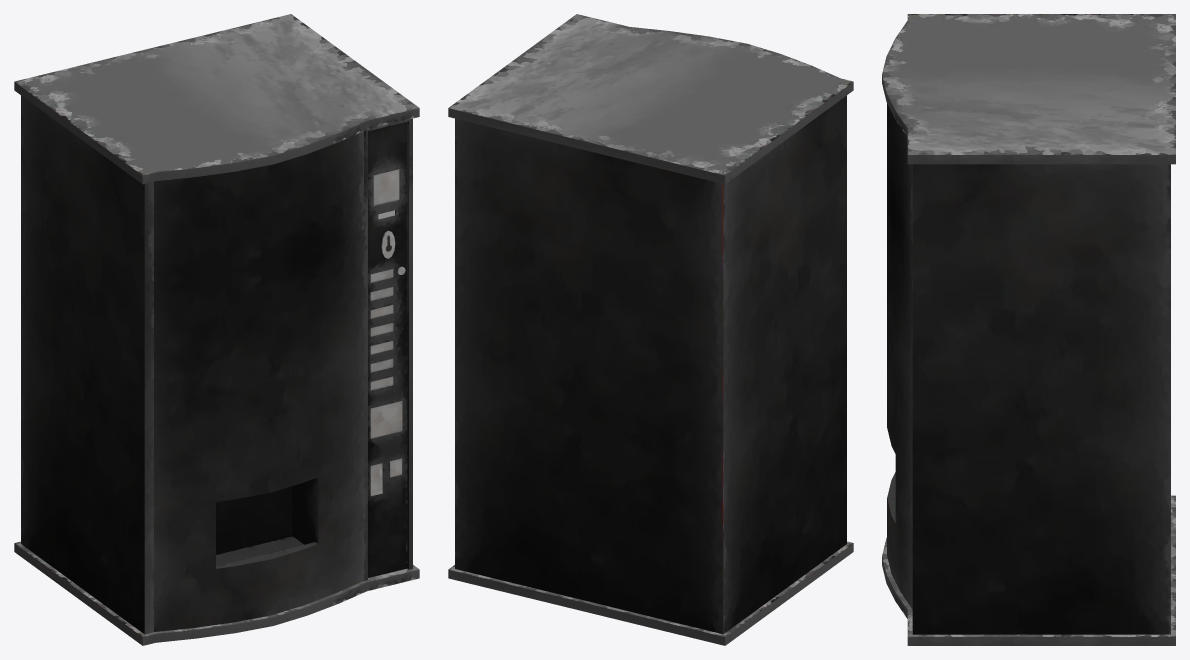
The model's file is Food Dispenser.glb.
The picture shows the model from 3 angles, left to right: view 1: azimuth 30°, elevation 25°; view 2: azimuth 150°, elevation 25°; view 3: azimuth 270°, elevation 25°; orthographic projection. The views are drawn at different scales.
Parts seen in each view (by area): view 1: Soda Vending Machine; view 2: Soda Vending Machine; view 3: Soda Vending Machine.
Part boxes in pixels (bbox=[...]): Soda Vending Machine: bbox=[14, 14, 419, 645]; Soda Vending Machine: bbox=[448, 14, 853, 645]; Soda Vending Machine: bbox=[882, 14, 1175, 645].
Size of the model in its own units: 1.29 by 2.1 by 1.14.
Materials: 1 (1 with a texture image).
